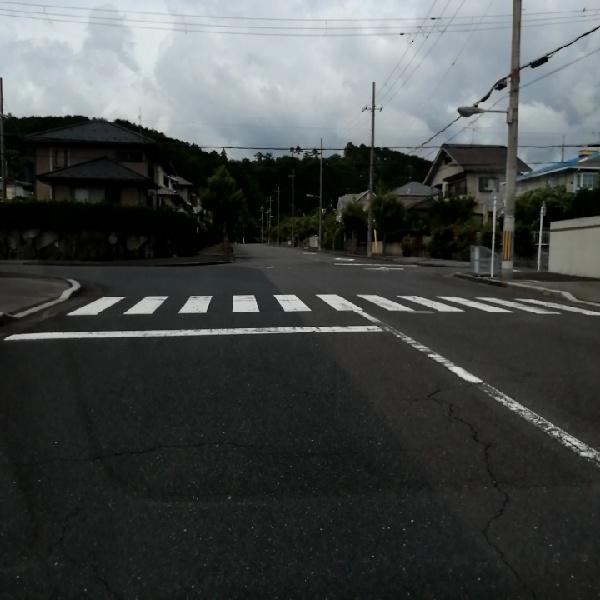D00: (431, 387, 516, 582), (47, 478, 131, 598)
D10: (47, 435, 283, 465)
